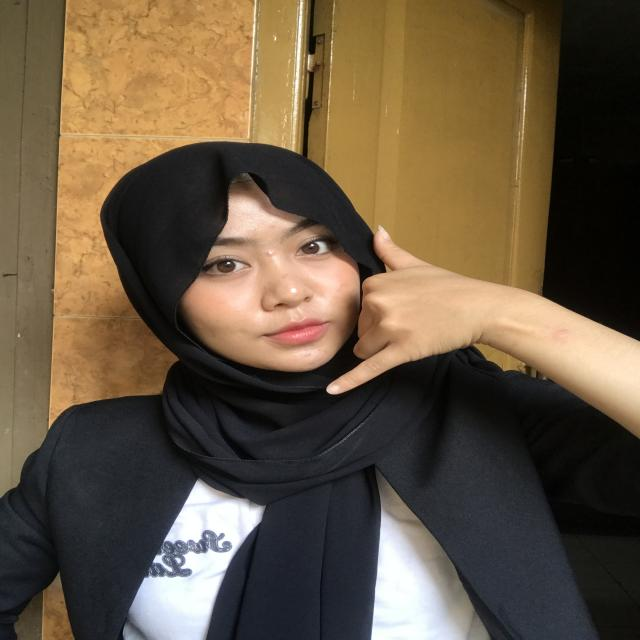telpon: (306, 216, 510, 414)
